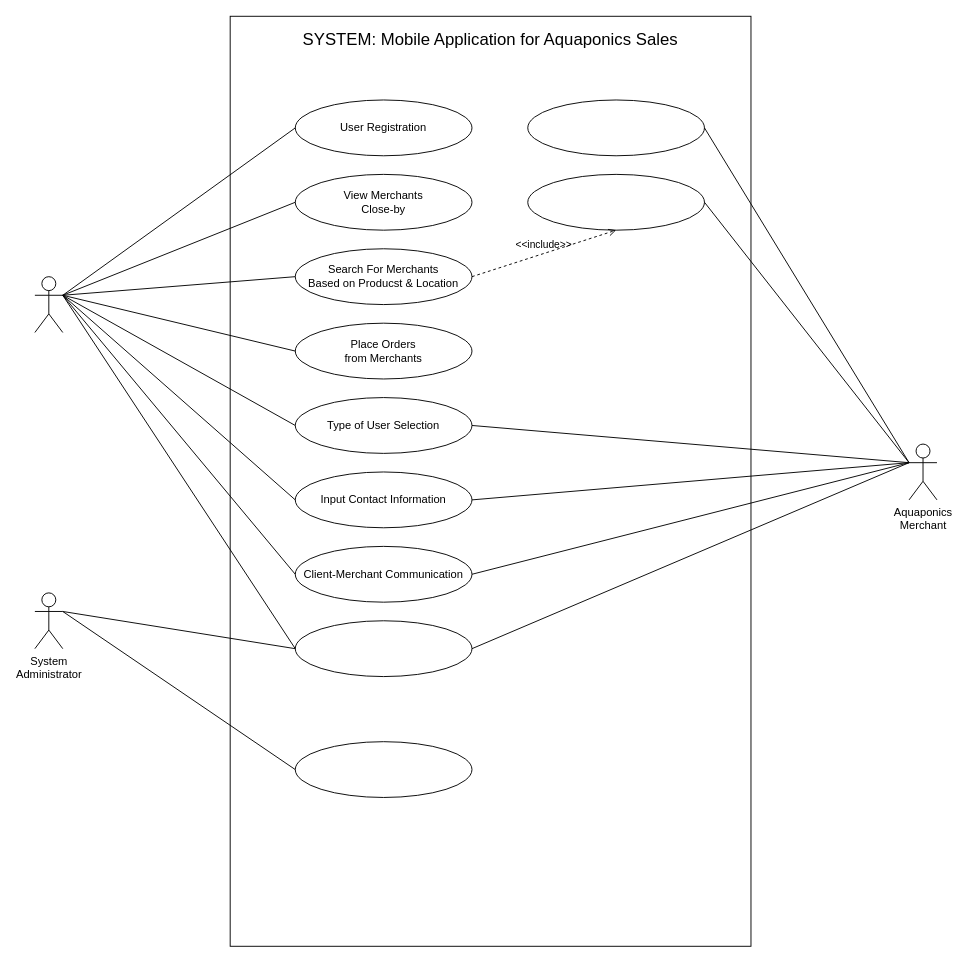
This 968x963 diagram has some shape labels left out. The box of each missing label's shape, as (x1, y1, x2, y2) in pixels:
Client: (34, 276, 63, 332)
Input Products: (527, 99, 704, 156)
Manage Merchants: (294, 741, 472, 797)
Receive & Approve Orders: (527, 173, 704, 230)
User Authentication: (294, 620, 472, 677)
